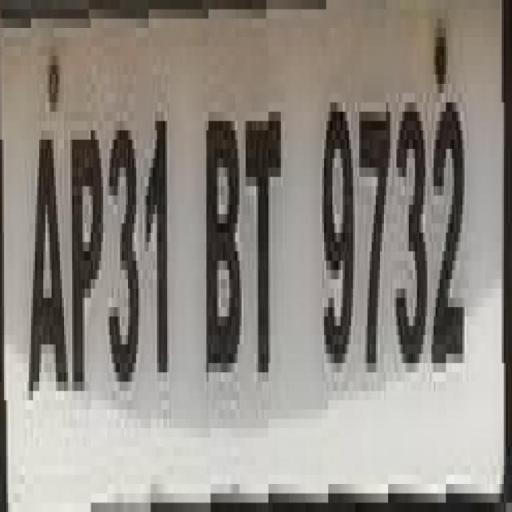number plate: (0, 9, 498, 512)
